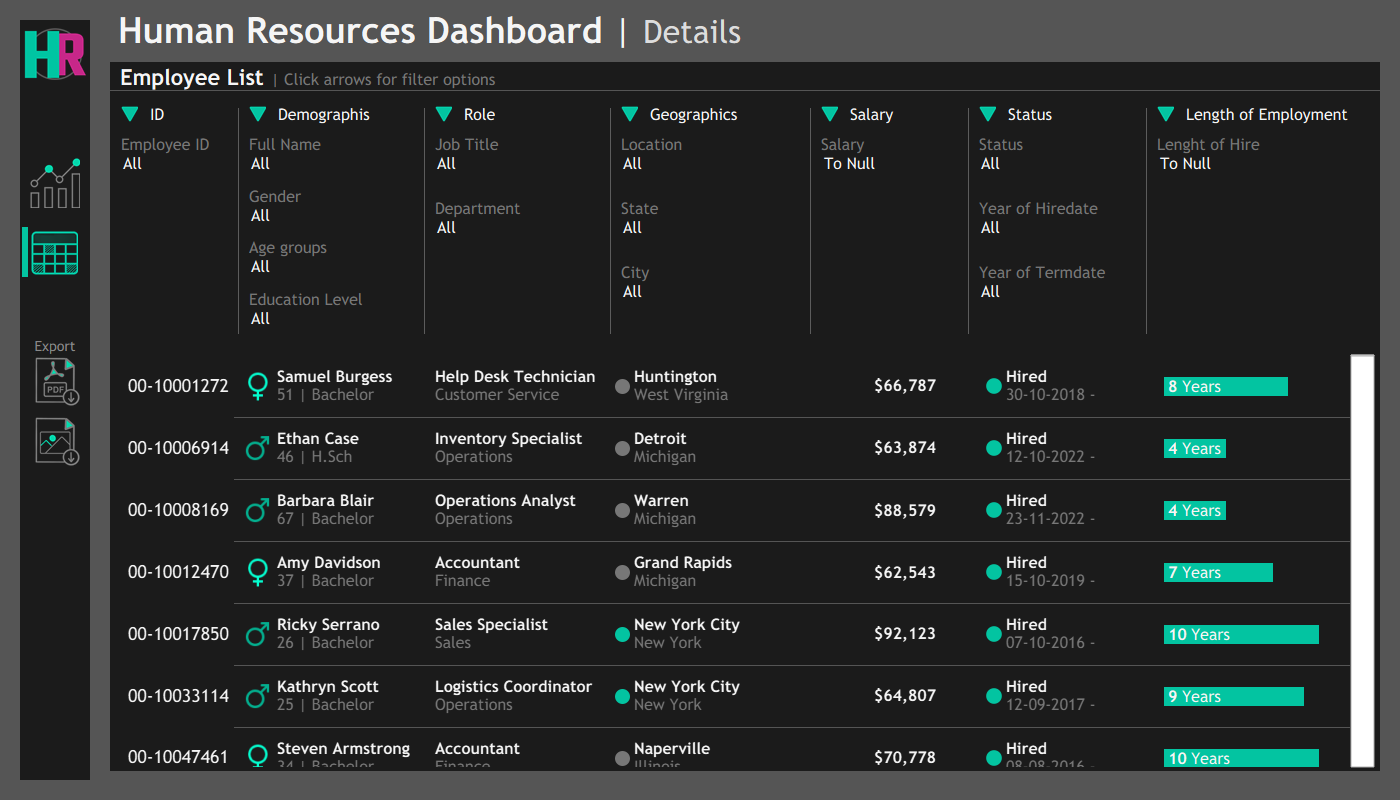

The dashboard page shown, as its layout file describes it:
{"tool":"tableau","page":{"name":"HR | Details","canvas":[1400,800],"ordinal":0},"visuals":[{"type":"text","box":[110,0,796,60]},{"type":"blank","box":[906,0,474,60]},{"type":"image","param":"Image/Logo.png","box":[20,20,70,67]},{"type":"text","box":[110,60,1270,31]},{"type":"blank","box":[20,87,70,60]},{"type":"dashboard-object","box":[117,98,25,32]},{"type":"text","box":[142,98,90,32]},{"type":"blank","box":[232,98,13,246]},{"type":"dashboard-object","box":[245,98,25,32]},{"type":"text","box":[270,98,148,32]},{"type":"blank","box":[418,98,13,246]},{"type":"dashboard-object","box":[431,98,25,32]},{"type":"text","box":[456,98,148,32]},{"type":"blank","box":[604,98,13,246]},{"type":"dashboard-object","box":[617,98,25,32]},{"type":"text","box":[642,98,162,32]},{"type":"blank","box":[804,98,13,246]},{"type":"dashboard-object","box":[817,98,25,32]},{"type":"text","box":[841.9,98,120,32]},{"type":"blank","box":[962,98,13,246]},{"type":"dashboard-object","box":[974.9,98,25,32]},{"type":"text","box":[999.9,98,140,32]},{"type":"blank","box":[1140,98,13,246]},{"type":"dashboard-object","box":[1152.9,98,25,32]},{"type":"text","box":[1177.9,98,195.1,32]},{"type":"filter","title":"Detailed","param":"[federated.1kji0zz1x3wm4k16x29gu1ttv2vd].[none:Employee_ID:nk]","box":[117,130,115,64]},{"type":"filter","title":"Detailed","param":"[federated.1kji0zz1x3wm4k16x29gu1ttv2vd].[none:Calculation_0877186183479298:nk]","box":[245,130,173,51.7]},{"type":"filter","title":"Detailed","param":"[federated.1kji0zz1x3wm4k16x29gu1ttv2vd].[none:Job Title:nk]","box":[431,130,173,64]},{"type":"filter","title":"Detailed","param":"[federated.1kji0zz1x3wm4k16x29gu1ttv2vd].[none:Calculation_0690816114548741:nk]","box":[617,130,187,64]},{"type":"filter","title":"Detailed","param":"[federated.1kji0zz1x3wm4k16x29gu1ttv2vd].[sum:Salary:qk]","box":[817,130,145,71]},{"type":"filter","title":"Detailed","param":"[federated.1kji0zz1x3wm4k16x29gu1ttv2vd].[none:Calculation_0201534853562368:nk]","box":[974.9,130,165,64]},{"type":"filter","title":"Detailed","param":"[federated.1kji0zz1x3wm4k16x29gu1ttv2vd].[sum:Calculation_1666360662835200:qk]","box":[1152.9,130,220.1,71]},{"type":"dashboard-object","box":[30,157,50,52]},{"type":"filter","title":"Detailed","param":"[federated.1kji0zz1x3wm4k16x29gu1ttv2vd].[none:Gender:nk]","box":[245,181.7,173,51.7]},{"type":"filter","title":"Detailed","param":"[federated.1kji0zz1x3wm4k16x29gu1ttv2vd].[none:Department:nk]","box":[431,194,173,64]},{"type":"filter","title":"Detailed","param":"[federated.1kji0zz1x3wm4k16x29gu1ttv2vd].[none:State:nk]","box":[617,194,187,64]},{"type":"filter","title":"Detailed","param":"[federated.1kji0zz1x3wm4k16x29gu1ttv2vd].[yr:Hiredate:ok]","box":[974.9,194,165,64]},{"type":"blank","box":[20,219,70,10]},{"type":"blank","box":[22,227,6,50]},{"type":"dashboard-object","box":[20,229,70,47]},{"type":"filter","title":"Detailed","param":"[federated.1kji0zz1x3wm4k16x29gu1ttv2vd].[none:Calculation_0690816123629577:nk]","box":[245,233.3,173,51.7]},{"type":"filter","title":"Detailed","param":"[federated.1kji0zz1x3wm4k16x29gu1ttv2vd].[none:City:nk]","box":[617,258,187,64]},{"type":"filter","title":"Detailed","param":"[federated.1kji0zz1x3wm4k16x29gu1ttv2vd].[yr:Termdate:ok]","box":[974.9,258,165,64]},{"type":"blank","box":[20,276,70,60]},{"type":"filter","title":"Detailed","param":"[federated.1kji0zz1x3wm4k16x29gu1ttv2vd].[none:Education Level:nk]","box":[245,285,173,59]},{"type":"text","box":[20,336,70,20]},{"type":"worksheet","title":"Detailed","mark":"Shape","rows":["Employee_ID"],"cols":["Calculation_0877186182778881","Calculation_0877186182778881","Calculation_0877186182778881","Calculation_0877186182778881","Calculation_0877186182778881","Calculation_1666360662835200"],"box":[110,351,1270,420]},{"type":"dashboard-object","box":[20,356,70,50]},{"type":"blank","box":[20,406,70,10]},{"type":"dashboard-object","box":[20,416,70,50]}]}

Visuals, with their boxes on the page's 1400x800 design canvas (x1, y1, x2, y2). These are canvas units, not pixel positions in the 1400x800 screenshot, which may show the page scaled, cropped or inside an application window:
text: l=110, t=0, r=906, b=60
blank: l=906, t=0, r=1380, b=60
image: l=20, t=20, r=90, b=87
text: l=110, t=60, r=1380, b=91
blank: l=20, t=87, r=90, b=147
dashboard-object: l=117, t=98, r=142, b=130
text: l=142, t=98, r=232, b=130
blank: l=232, t=98, r=245, b=344
dashboard-object: l=245, t=98, r=270, b=130
text: l=270, t=98, r=418, b=130
blank: l=418, t=98, r=431, b=344
dashboard-object: l=431, t=98, r=456, b=130
text: l=456, t=98, r=604, b=130
blank: l=604, t=98, r=617, b=344
dashboard-object: l=617, t=98, r=642, b=130
text: l=642, t=98, r=804, b=130
blank: l=804, t=98, r=817, b=344
dashboard-object: l=817, t=98, r=842, b=130
text: l=842, t=98, r=962, b=130
blank: l=962, t=98, r=975, b=344
dashboard-object: l=975, t=98, r=1000, b=130
text: l=1000, t=98, r=1140, b=130
blank: l=1140, t=98, r=1153, b=344
dashboard-object: l=1153, t=98, r=1178, b=130
text: l=1178, t=98, r=1373, b=130
"Detailed" filter: l=117, t=130, r=232, b=194
"Detailed" filter: l=245, t=130, r=418, b=182
"Detailed" filter: l=431, t=130, r=604, b=194
"Detailed" filter: l=617, t=130, r=804, b=194
"Detailed" filter: l=817, t=130, r=962, b=201
"Detailed" filter: l=975, t=130, r=1140, b=194
"Detailed" filter: l=1153, t=130, r=1373, b=201
dashboard-object: l=30, t=157, r=80, b=209
"Detailed" filter: l=245, t=182, r=418, b=233
"Detailed" filter: l=431, t=194, r=604, b=258
"Detailed" filter: l=617, t=194, r=804, b=258
"Detailed" filter: l=975, t=194, r=1140, b=258
blank: l=20, t=219, r=90, b=229
blank: l=22, t=227, r=28, b=277
dashboard-object: l=20, t=229, r=90, b=276
"Detailed" filter: l=245, t=233, r=418, b=285
"Detailed" filter: l=617, t=258, r=804, b=322
"Detailed" filter: l=975, t=258, r=1140, b=322
blank: l=20, t=276, r=90, b=336
"Detailed" filter: l=245, t=285, r=418, b=344
text: l=20, t=336, r=90, b=356
"Detailed" worksheet (Shape marks): l=110, t=351, r=1380, b=771
dashboard-object: l=20, t=356, r=90, b=406
blank: l=20, t=406, r=90, b=416
dashboard-object: l=20, t=416, r=90, b=466
